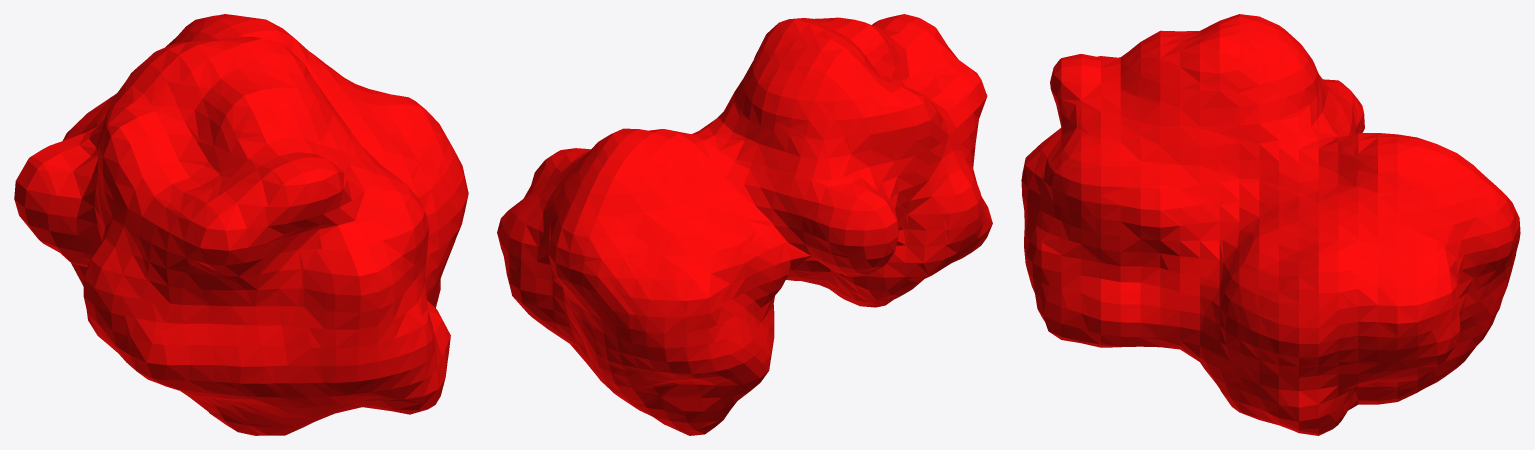
The model's file is rlmG_coarse.dae.
The picture shows the model from 3 angles, left to right: view 1: azimuth 30°, elevation 25°; view 2: azimuth 150°, elevation 25°; view 3: azimuth 270°, elevation 25°; orthographic projection. The views are drawn at different scales.
Parts seen in each view (by area): view 1: rlmG; view 2: rlmG; view 3: rlmG.
Part boxes in pixels (left/top/right/bottom): rlmG: left=14, top=14, right=468, bottom=435; rlmG: left=497, top=14, right=992, bottom=435; rlmG: left=1021, top=14, right=1520, bottom=435.
Size of the model in its own units: 59.47 by 53.67 by 68.55.
